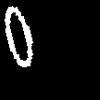chain: (5, 6, 32, 66)
